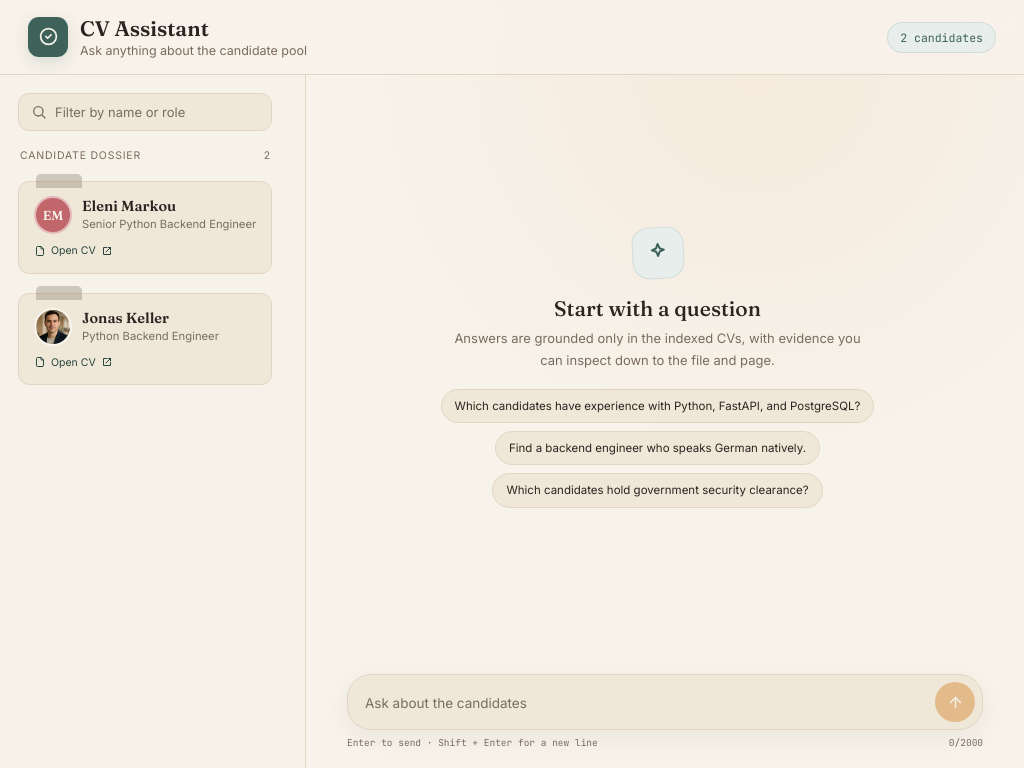
Test: CV Assistant application › opens citation evidence and links to the cited PDF page
Expected: the text "2 candidates" is shown, x1=887 y1=22 x2=996 y2=52
In the text box named "Ask a question about the candidates": point(646, 703) x1=365 y1=684 x2=927 y2=722, type "Who knows Python and FastAPI?"
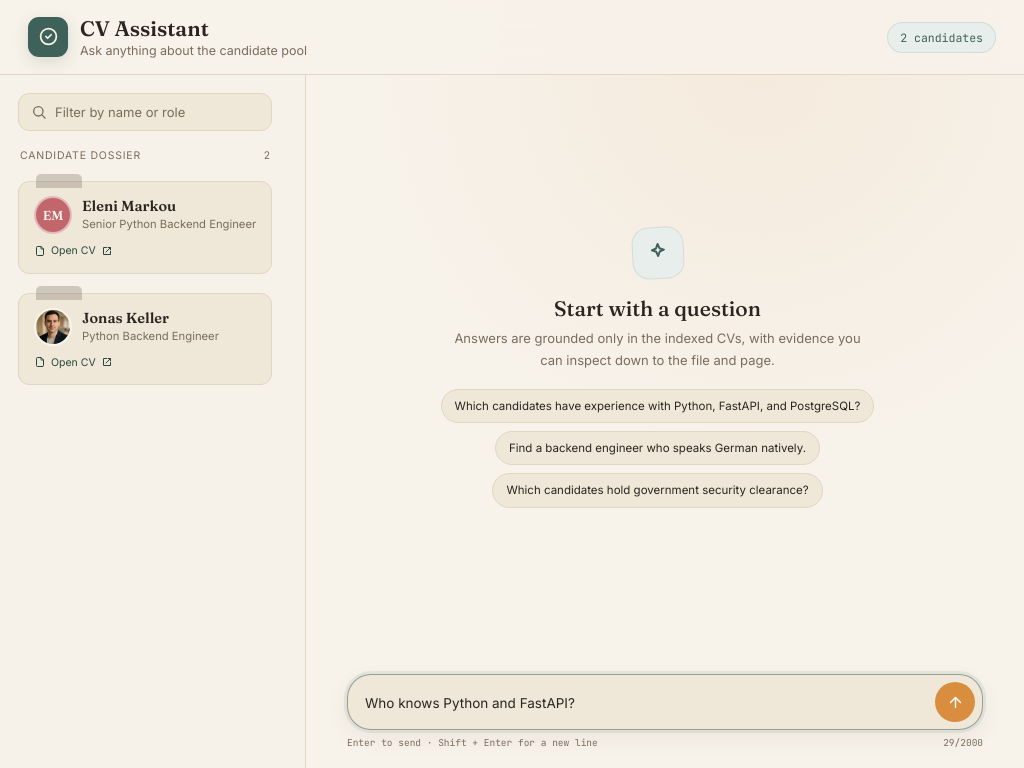
Click the button named "Send question": point(955, 702) x1=935 y1=682 x2=975 y2=722
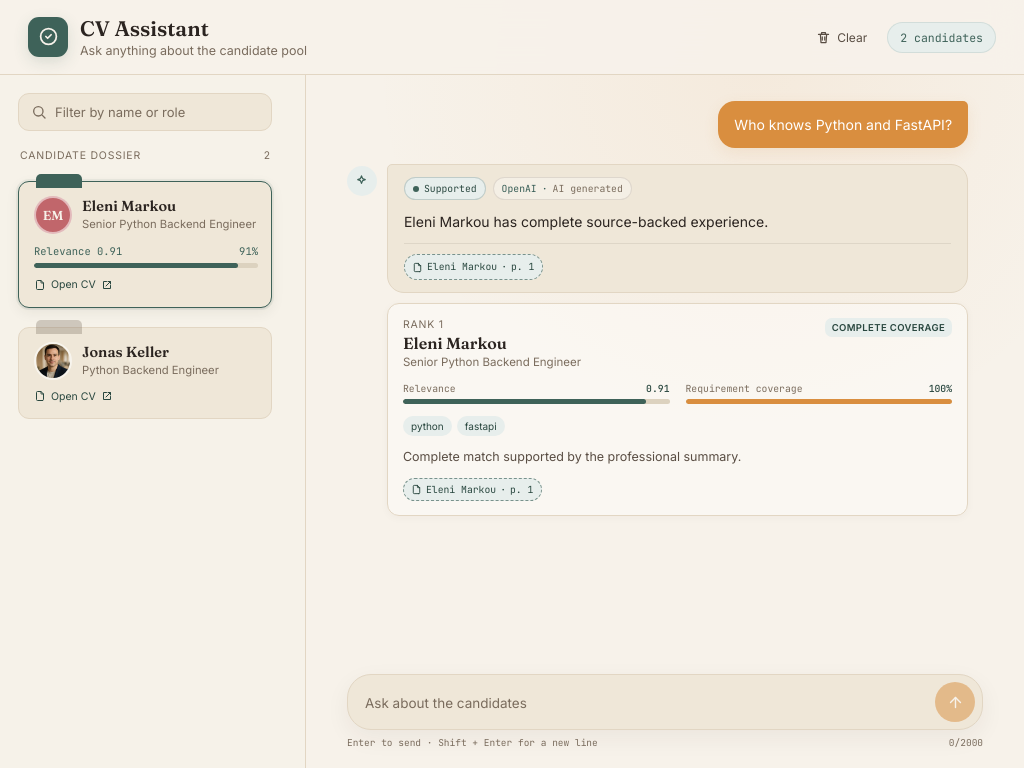
Click the button with aria-label "View source from Eleni Markou, page 1": point(474, 267) x1=404 y1=254 x2=544 y2=280
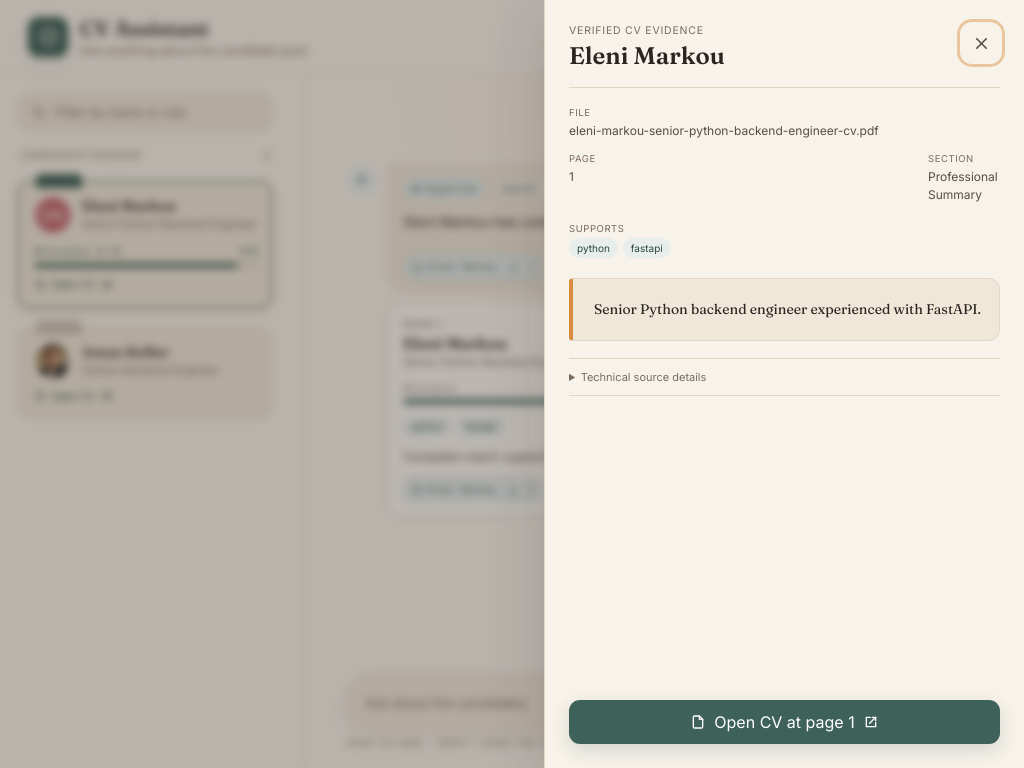
Expected: the dialog "Eleni Markou" is shown, x1=544 y1=0 x2=1023 y2=767
Expected: the text "Senior Python backend engineer experienced with FastAPI." is shown, x1=569 y1=278 x2=1000 y2=340
